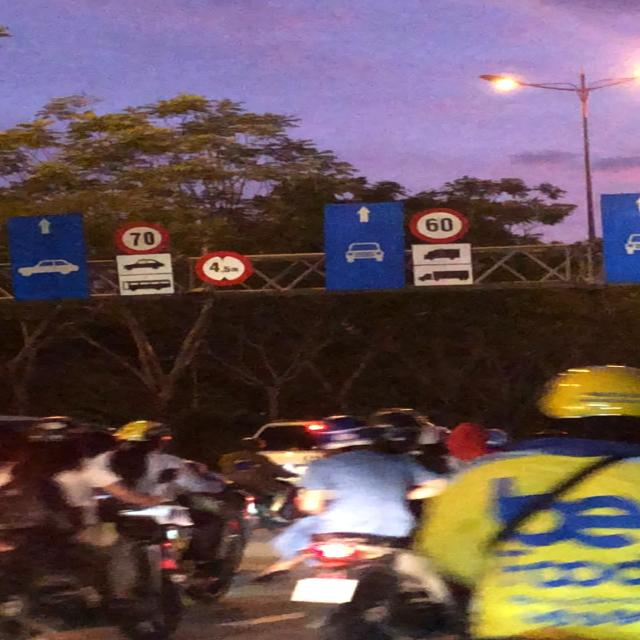Bien bao han che chieu cao: (190, 248, 261, 288)
Bien bao toc do toi da cho phep: (402, 205, 481, 245), (111, 220, 176, 256)
